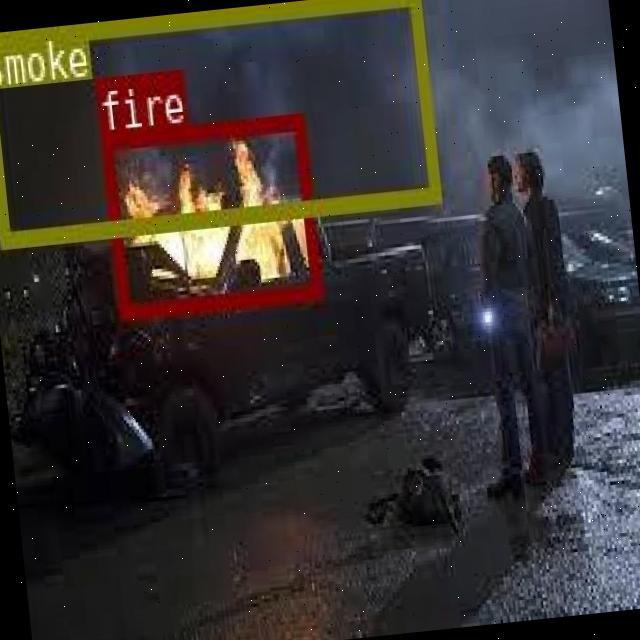fire: (98, 112, 320, 315)
smoke: (0, 0, 440, 243)
